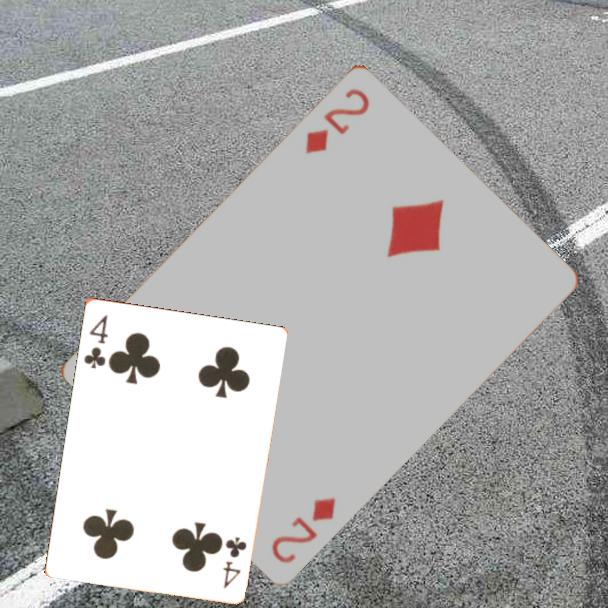c04: (80, 311, 110, 371), (219, 533, 249, 591)
d02: (301, 84, 373, 157), (268, 493, 339, 566)
